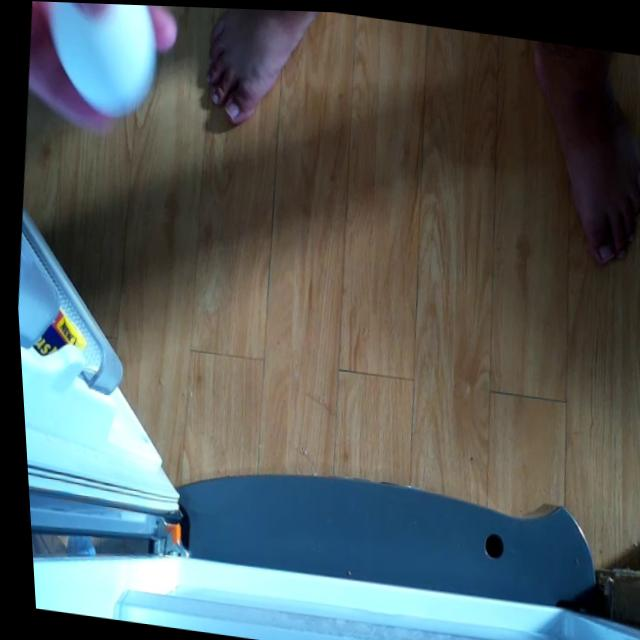egg: (35, 1, 165, 128)
